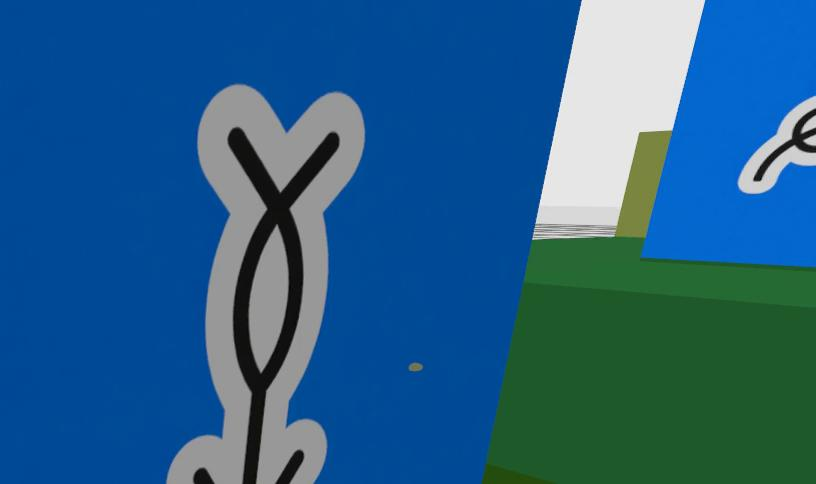KFS_REAL: (0, 0, 579, 484), (168, 85, 364, 484), (645, 0, 815, 267), (738, 97, 815, 194)
